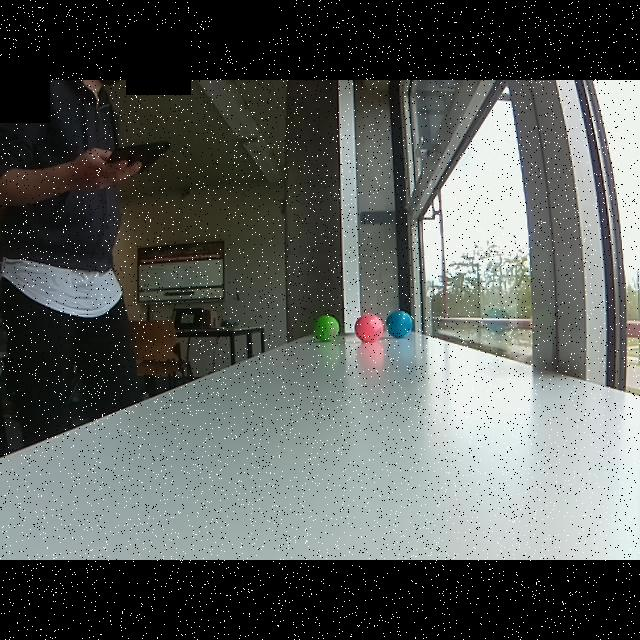ball: (352, 309, 386, 345), (312, 312, 344, 343), (386, 307, 414, 341)
